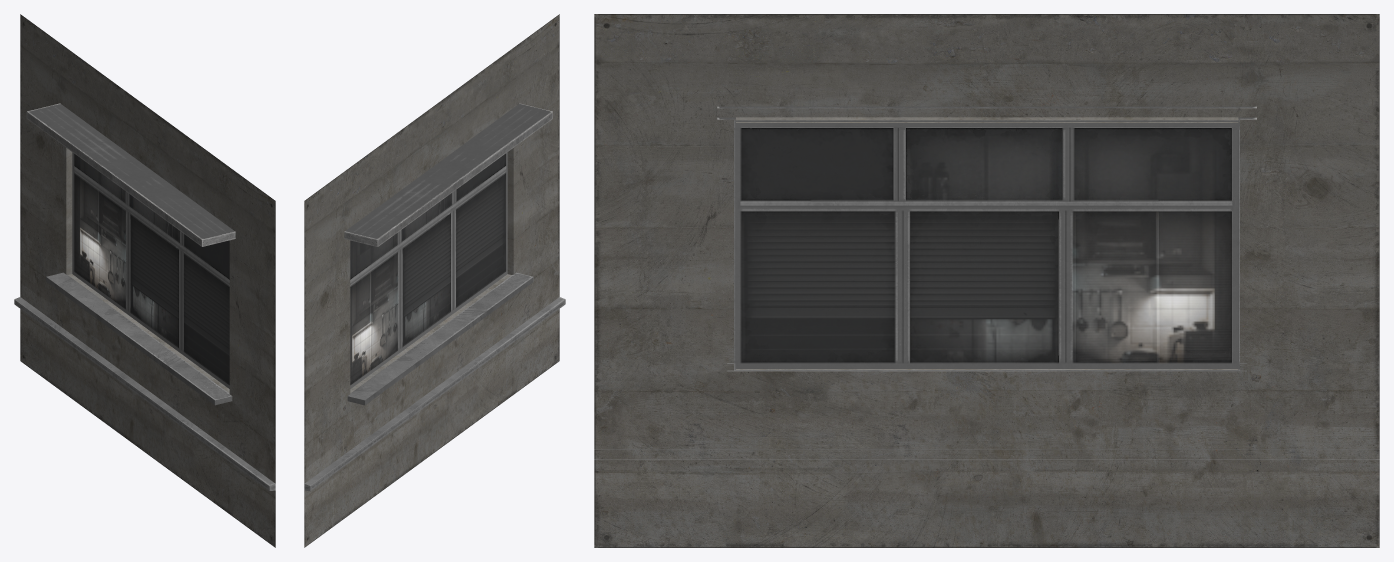
File: CP_Windows_A_4x3m_02.fbx
3 renders of one model, left to right at view 1: azimuth 30°, elevation 25°; view 2: azimuth 150°, elevation 25°; view 3: azimuth 270°, elevation 25°, orthographic. The views are drawn at different scales.
Visible parts, largest first — view 1: CP_Windows_A_4x3m_02; view 2: CP_Windows_A_4x3m_02; view 3: CP_Windows_A_4x3m_02.
Boxes of the visible parts, x1,y1,x2,y2 form: CP_Windows_A_4x3m_02: [14, 14, 275, 547]; CP_Windows_A_4x3m_02: [304, 14, 565, 547]; CP_Windows_A_4x3m_02: [594, 14, 1379, 547].
Size of the model in its own units: 36.92 by 300 by 400.
